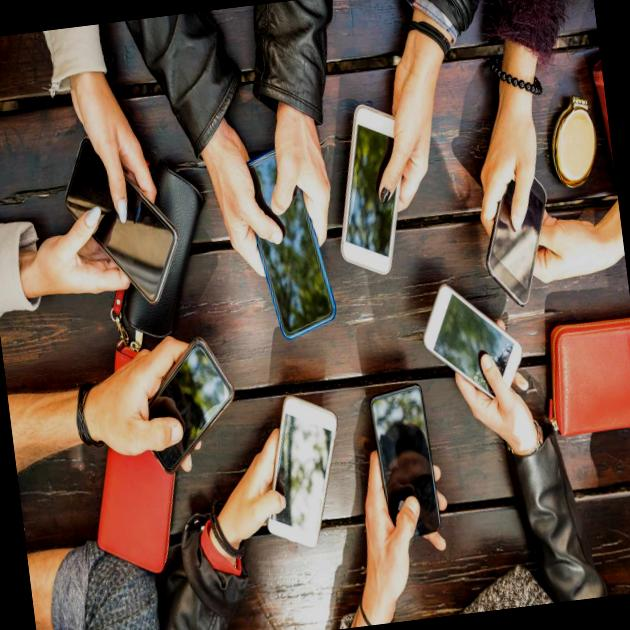phone: (234, 110, 348, 350), (326, 92, 450, 276), (352, 352, 457, 567), (254, 391, 355, 544)
